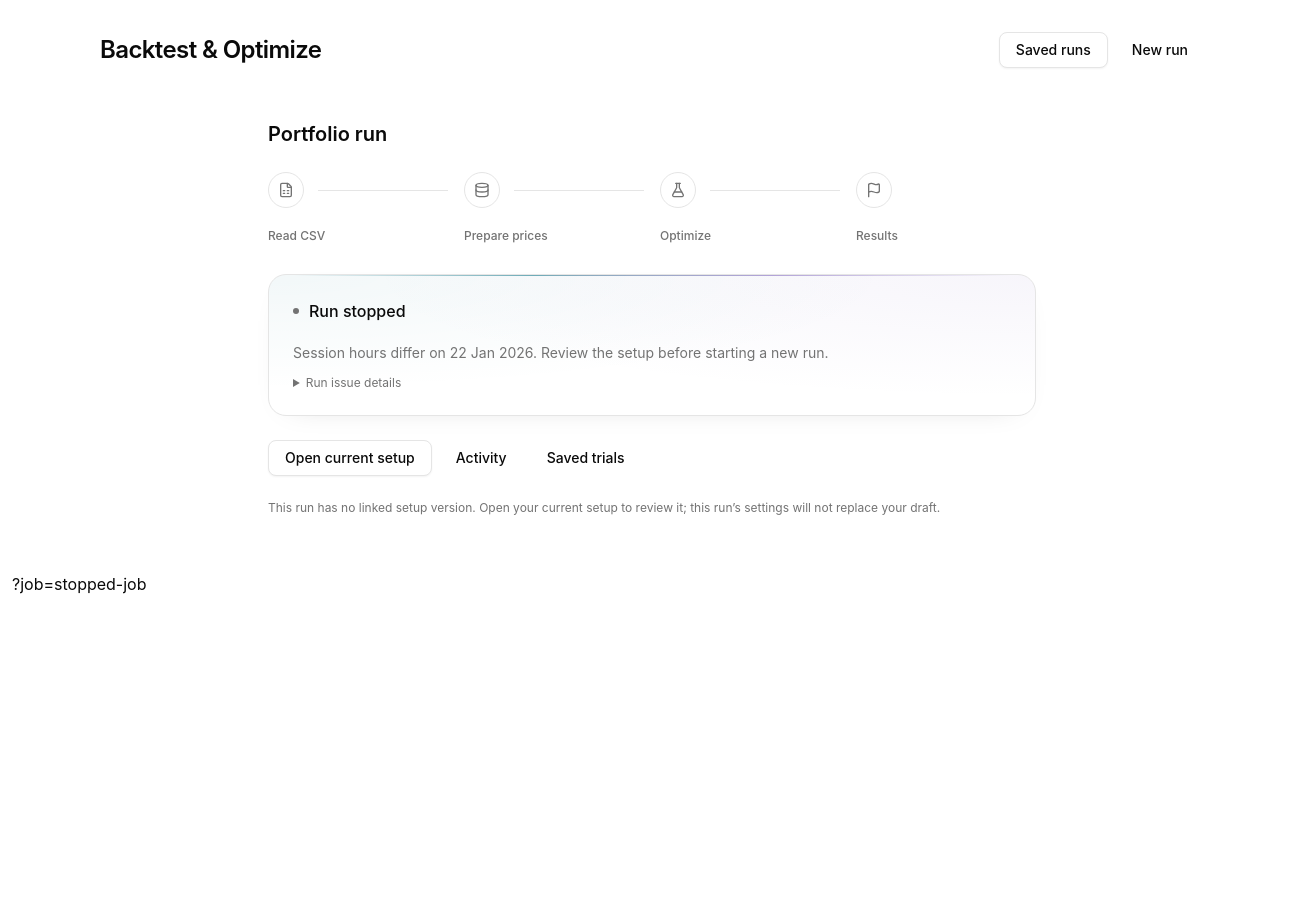
Test: structured recovery and action-specific busy state › explains the first date and actual/expected hours once, suppressing an incompatible Resume flag
Check: the message shows "Session hours differ on 22 Jan 2026", box x1=293 y1=344 x2=828 y2=361
Check: the number of messages is 1, box x1=293 y1=344 x2=828 y2=361
What coordinates should you click on to do the following:
click the heading "Run issue details"
I would click on:
 (353, 382)
Its box is x1=306 y1=375 x2=401 y2=390.
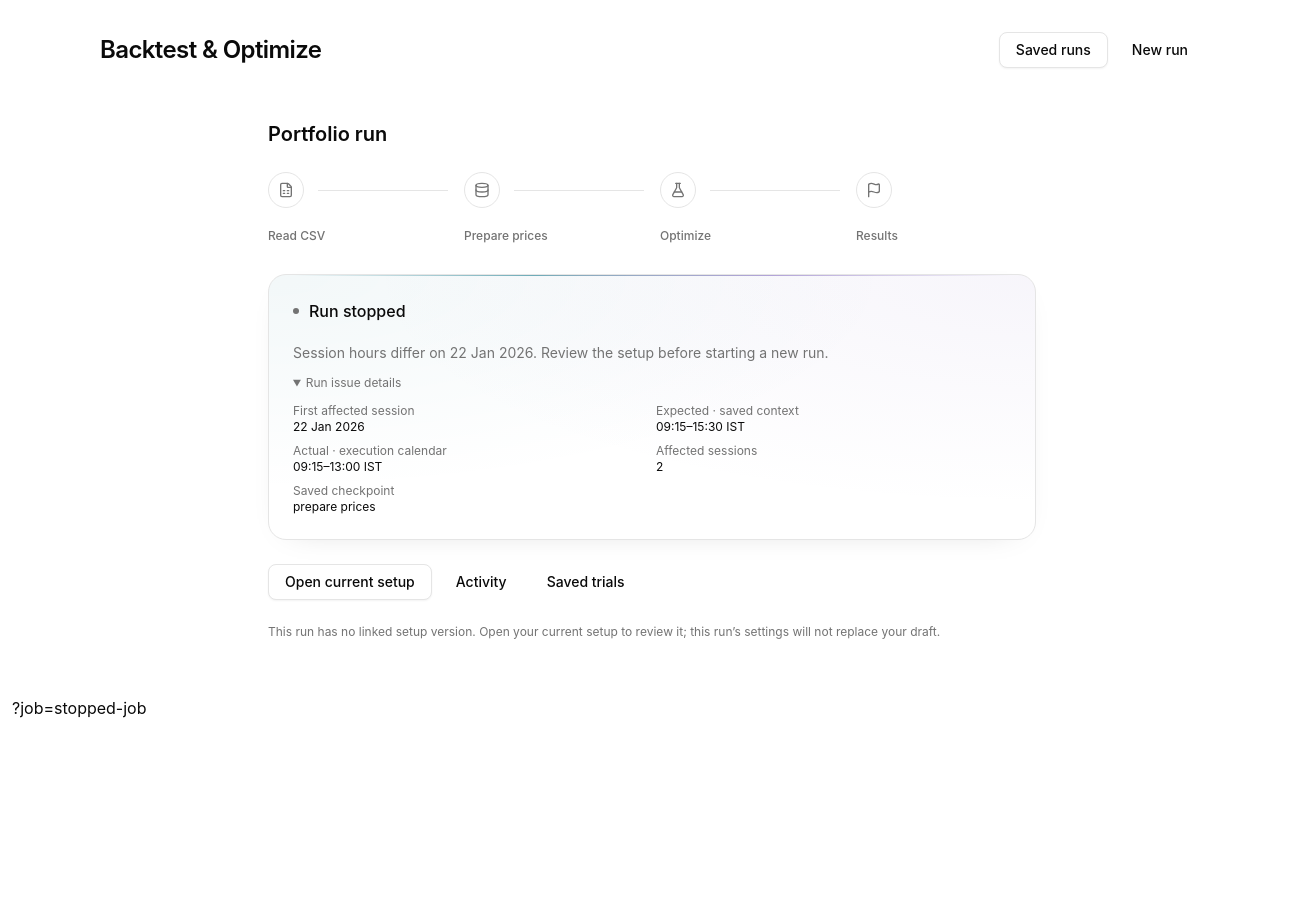
Check: the text "09:15–15:30 IST" is shown, box x1=656 y1=419 x2=745 y2=434
Check: the text "09:15–13:00 IST" is shown, box x1=293 y1=459 x2=382 y2=474
Check: the text "22 Jan 2026" is shown, box x1=293 y1=419 x2=365 y2=434
